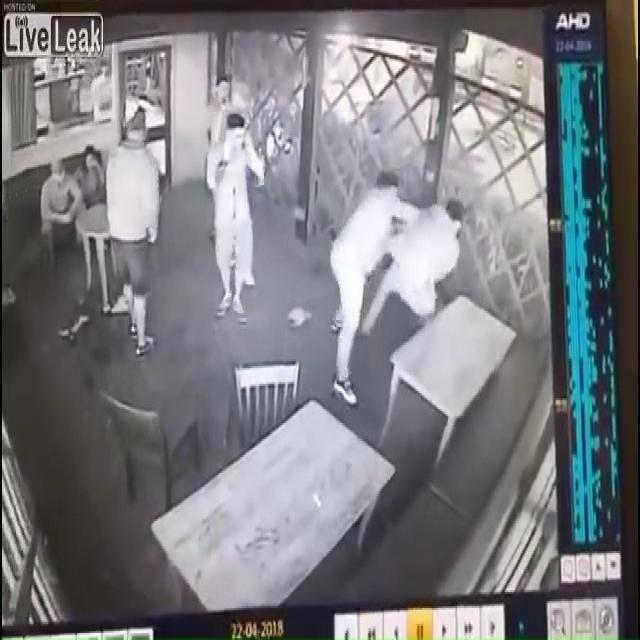fight: (329, 172, 465, 324)
